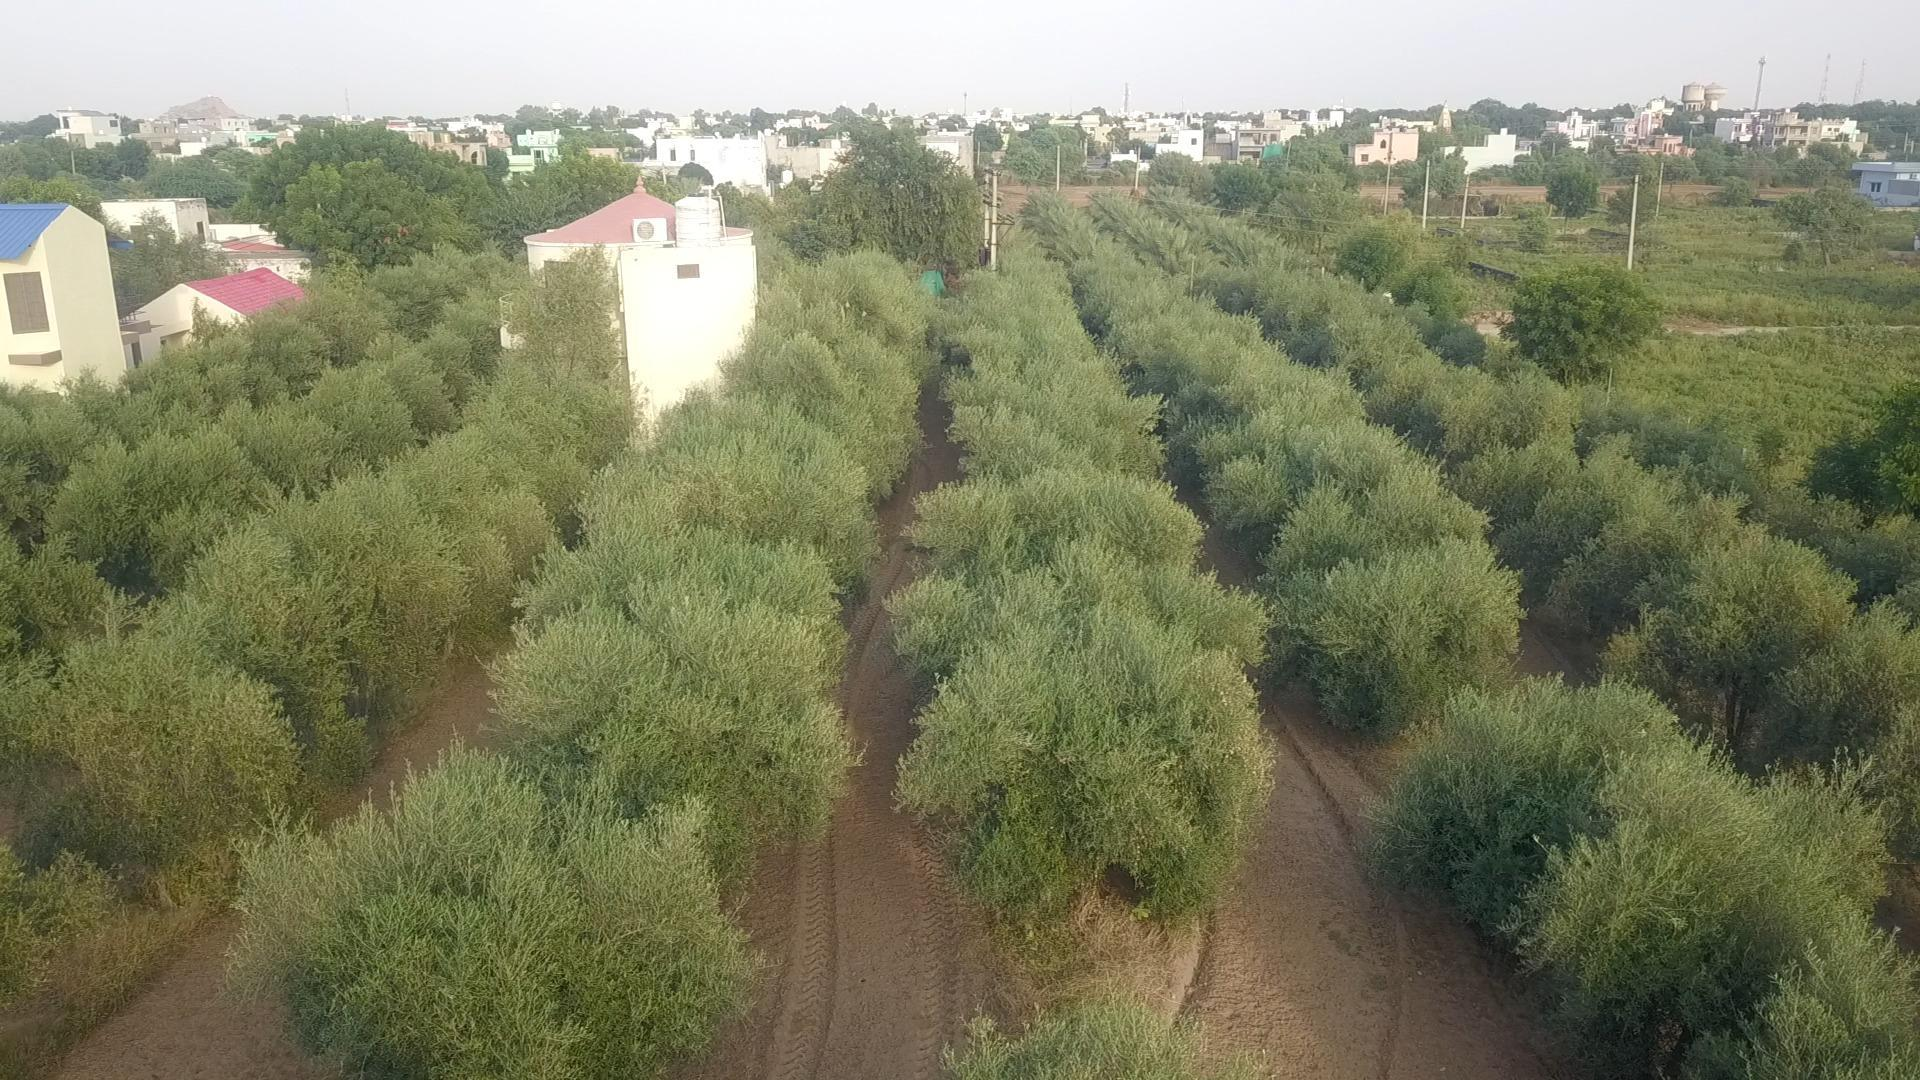canopy: (237, 251, 934, 1076), (1197, 239, 1919, 773), (0, 342, 633, 899), (887, 262, 1265, 922), (1371, 676, 1919, 1077), (1067, 245, 1519, 709), (0, 335, 487, 655)
road: (51, 674, 495, 1079), (676, 541, 1001, 1079), (1142, 754, 1544, 1079)
